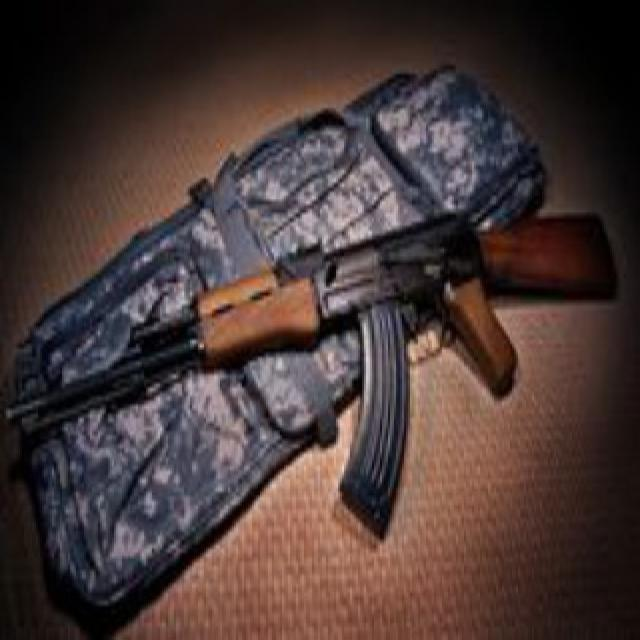weapon: (18, 176, 620, 536)
